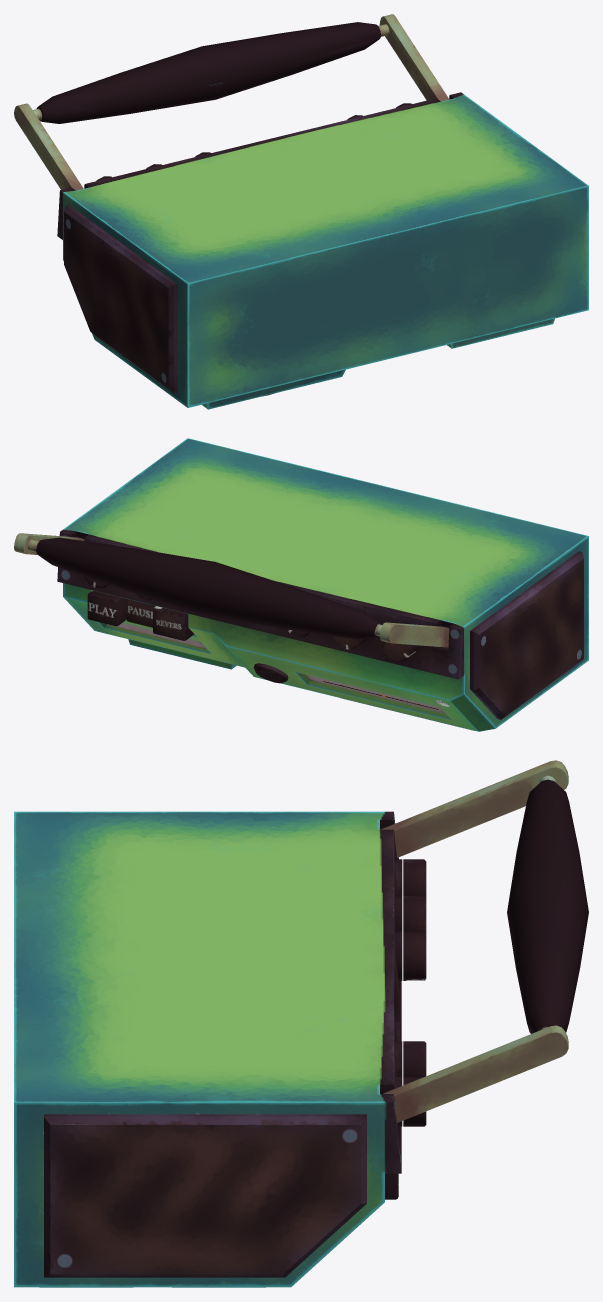
File: Radio.fbx
3 renders of one model, top to bottom at view 1: azimuth 30°, elevation 25°; view 2: azimuth 150°, elevation 25°; view 3: azimuth 270°, elevation 25°, orthographic. The views are drawn at different scales.
Visible parts, largest first — view 1: Circle.027; view 2: Circle.027; view 3: Circle.027.
Boxes of the visible parts, box(x1,y1,x2,y2) form: Circle.027: box(14, 14, 588, 409); Circle.027: box(14, 438, 588, 731); Circle.027: box(14, 760, 588, 1287).
Bounding box in the file's own units: 132 × 63.25 × 107.
